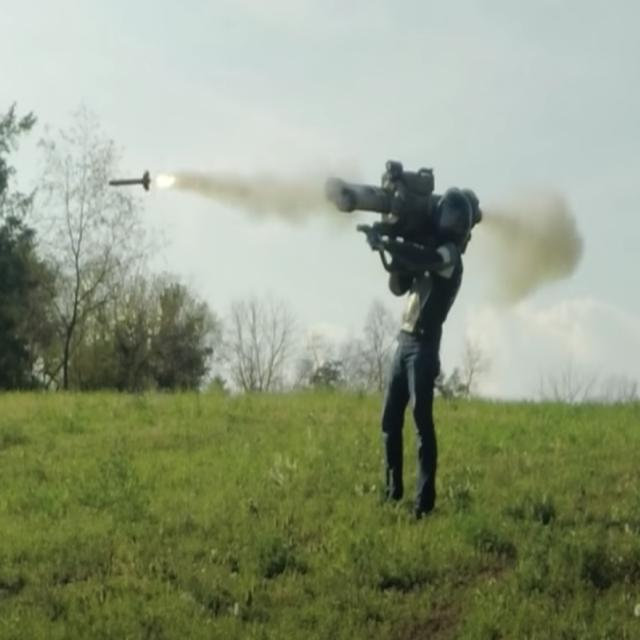bazooka: (319, 147, 496, 252)
